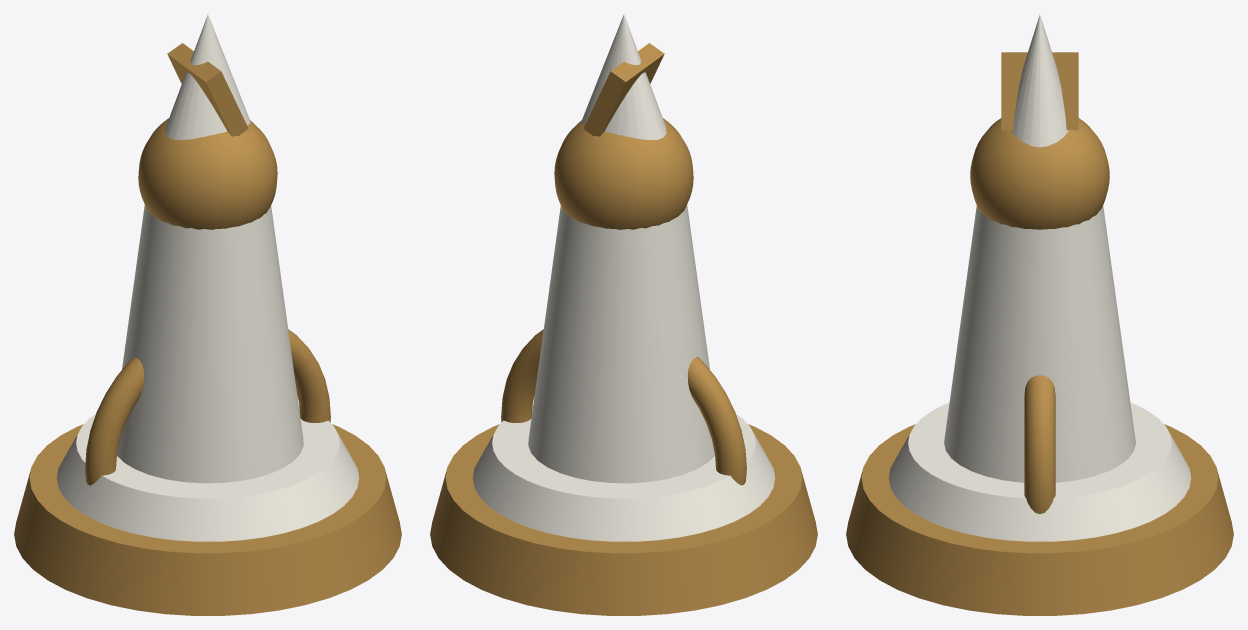
3 views of the same model, side by side, from view 1: azimuth 30°, elevation 25°; view 2: azimuth 150°, elevation 25°; view 3: azimuth 270°, elevation 25° (orthographic).
Size of the model in its own units: 0.9972 by 1.58 by 1.
